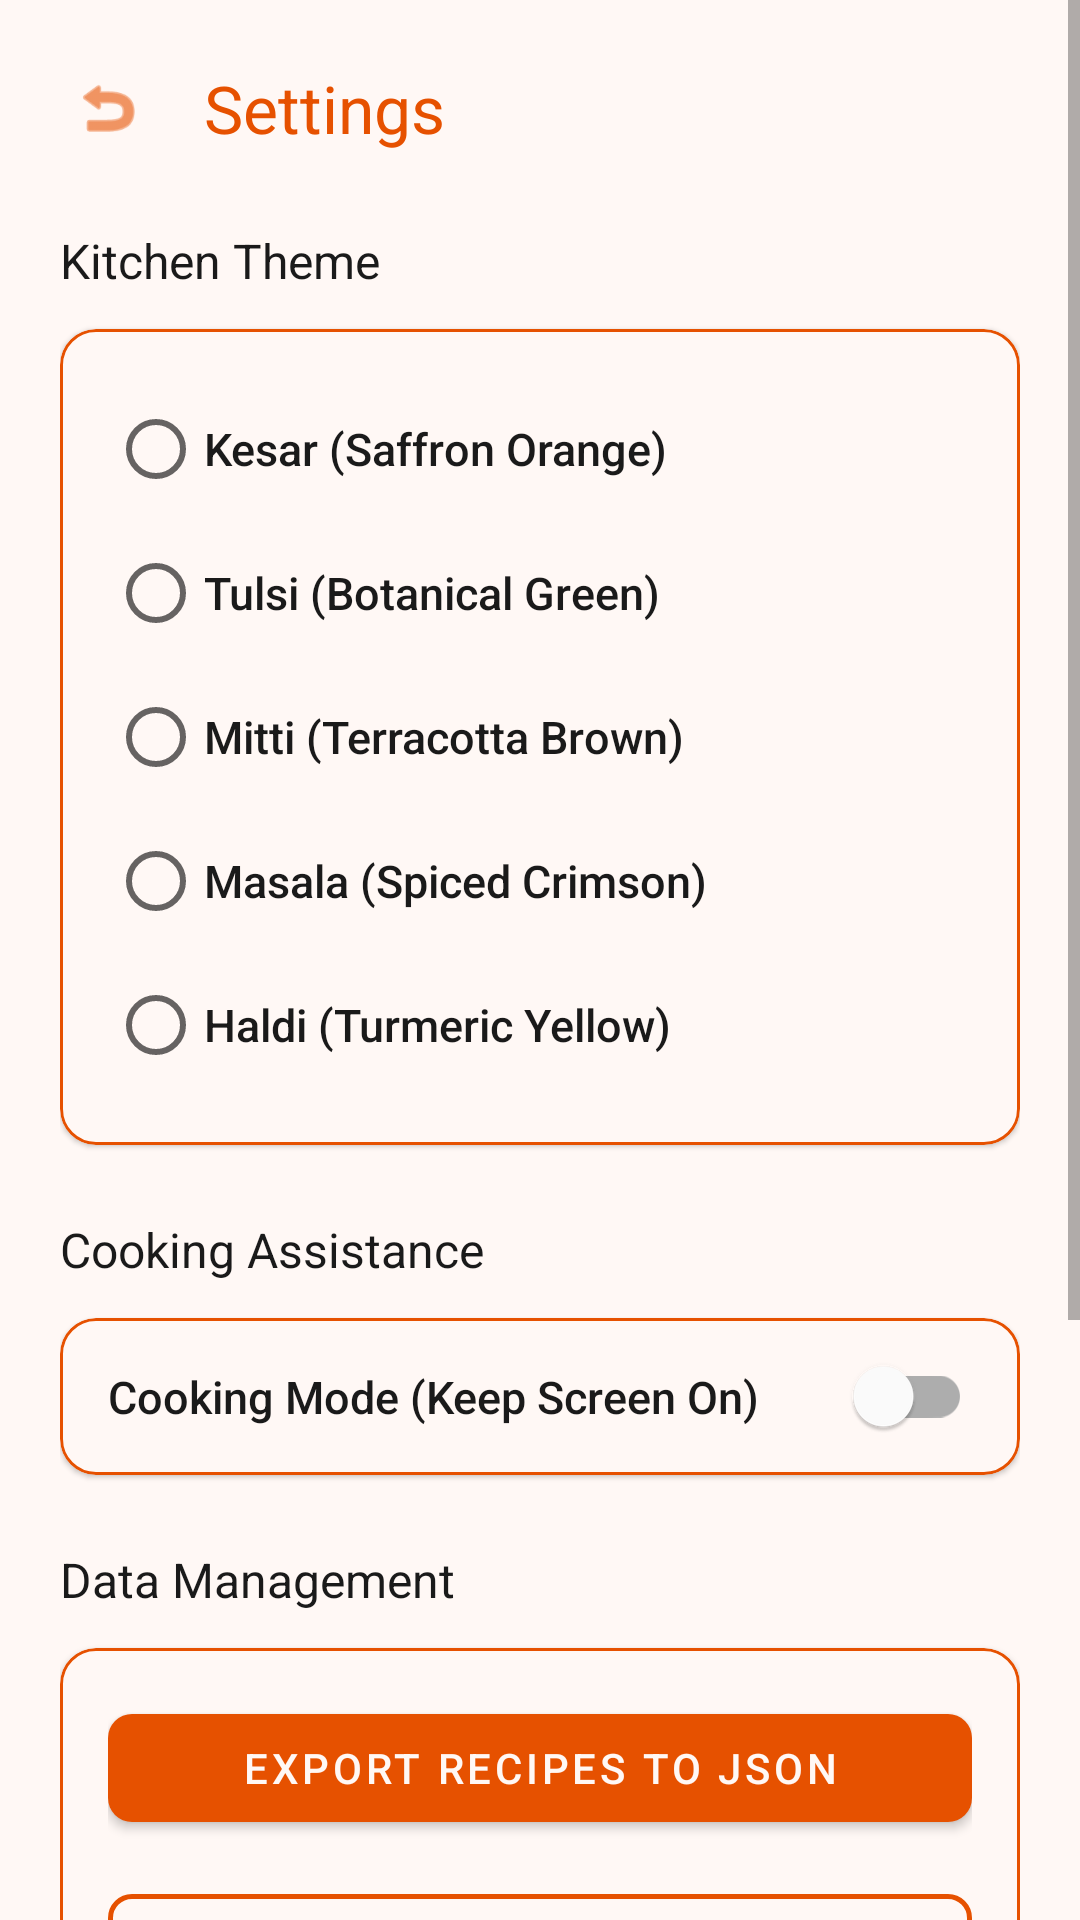

Where to tap for icons on this 1080px×1920px app screen, as [x,y]:
Back: [109,108]
